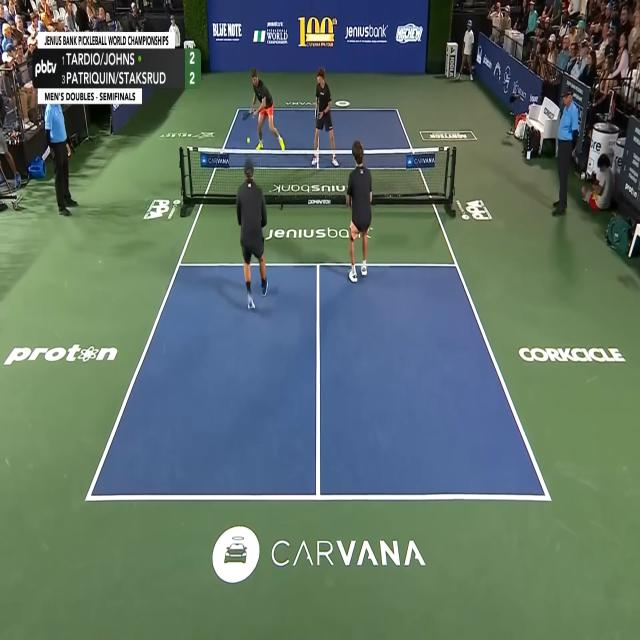ball: (247, 137, 250, 144)
